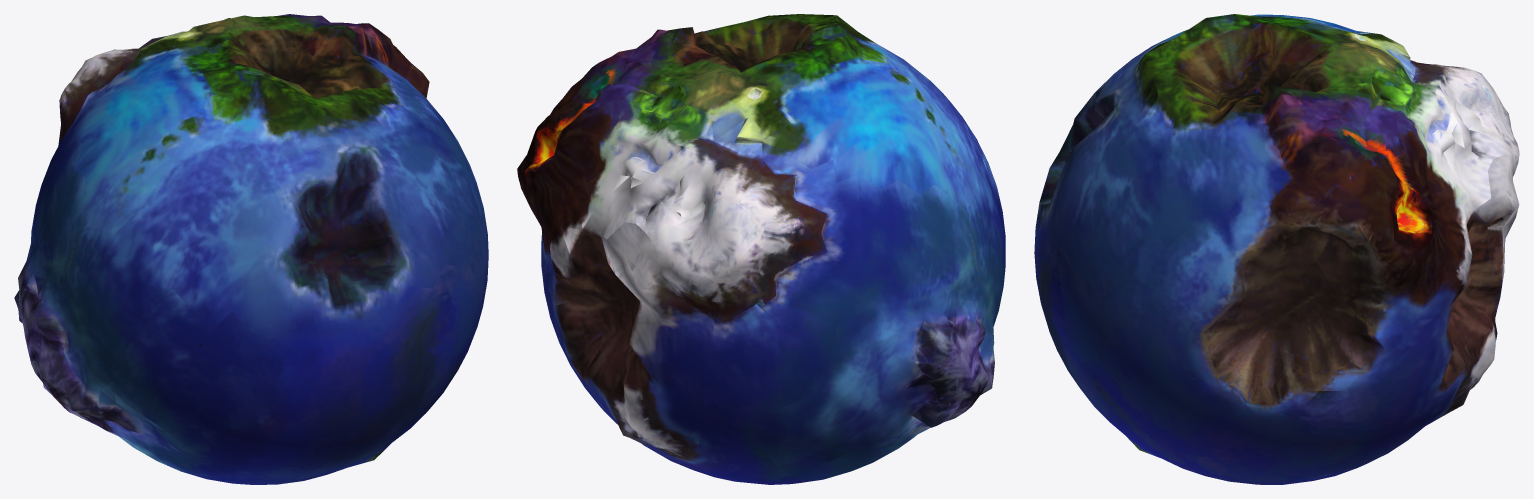
File: Dinosaur Planet (World Map).obj
3 views of the same model, side by side, from view 1: azimuth 30°, elevation 25°; view 2: azimuth 150°, elevation 25°; view 3: azimuth 270°, elevation 25° (orthographic). The views are drawn at different scales.
Parts seen in each view (by area): view 1: MODELS_bin_001:poly000; view 2: MODELS_bin_001:poly000; view 3: MODELS_bin_001:poly000.
Part boxes in pixels (x1,y1,x2,y2): MODELS_bin_001:poly000: [14, 14, 488, 484]; MODELS_bin_001:poly000: [517, 14, 1005, 484]; MODELS_bin_001:poly000: [1034, 14, 1519, 484].
Size of the model in its own units: 14.82 by 14.48 by 14.85.
1 material, 1 textured.
